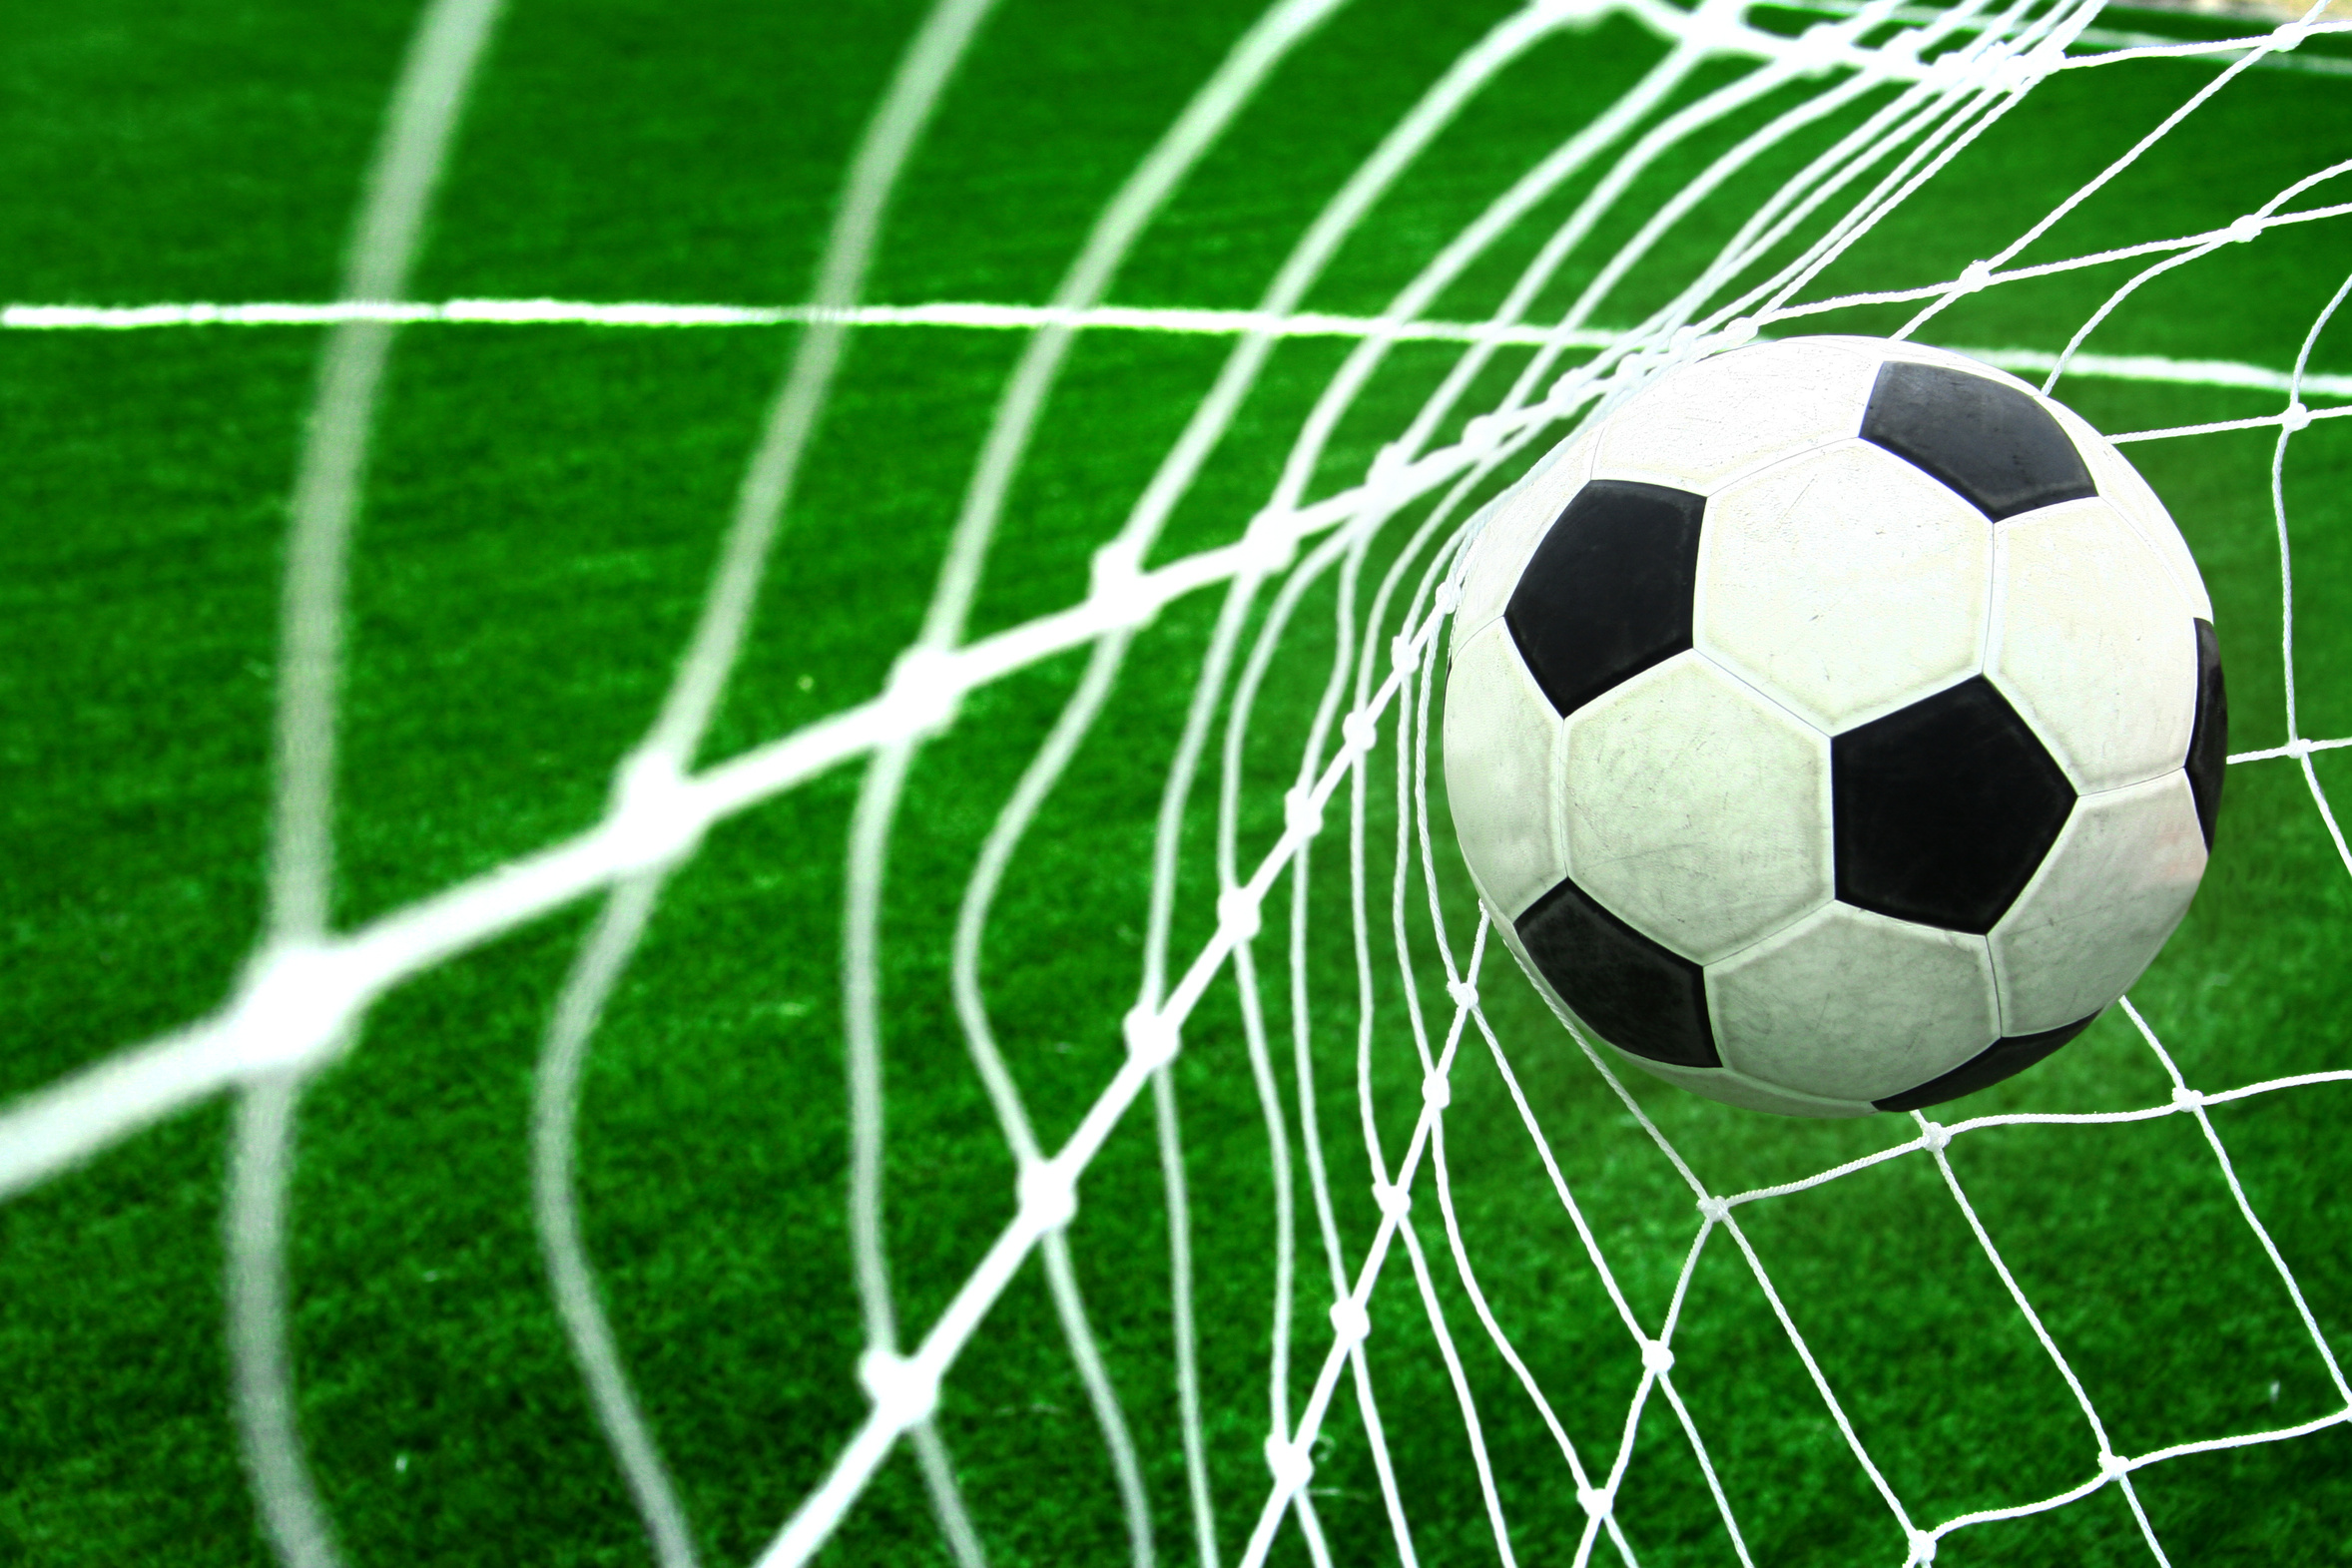football: (1442, 322, 2224, 1127)
